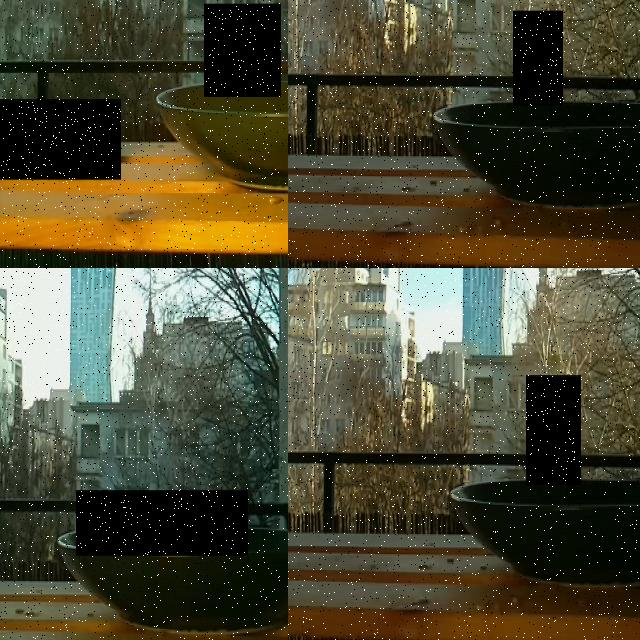Bogatka: (204, 4, 281, 97)
Modraszka: (0, 100, 121, 180), (526, 375, 581, 485), (513, 11, 563, 105)
Wrobel: (76, 490, 248, 556)
